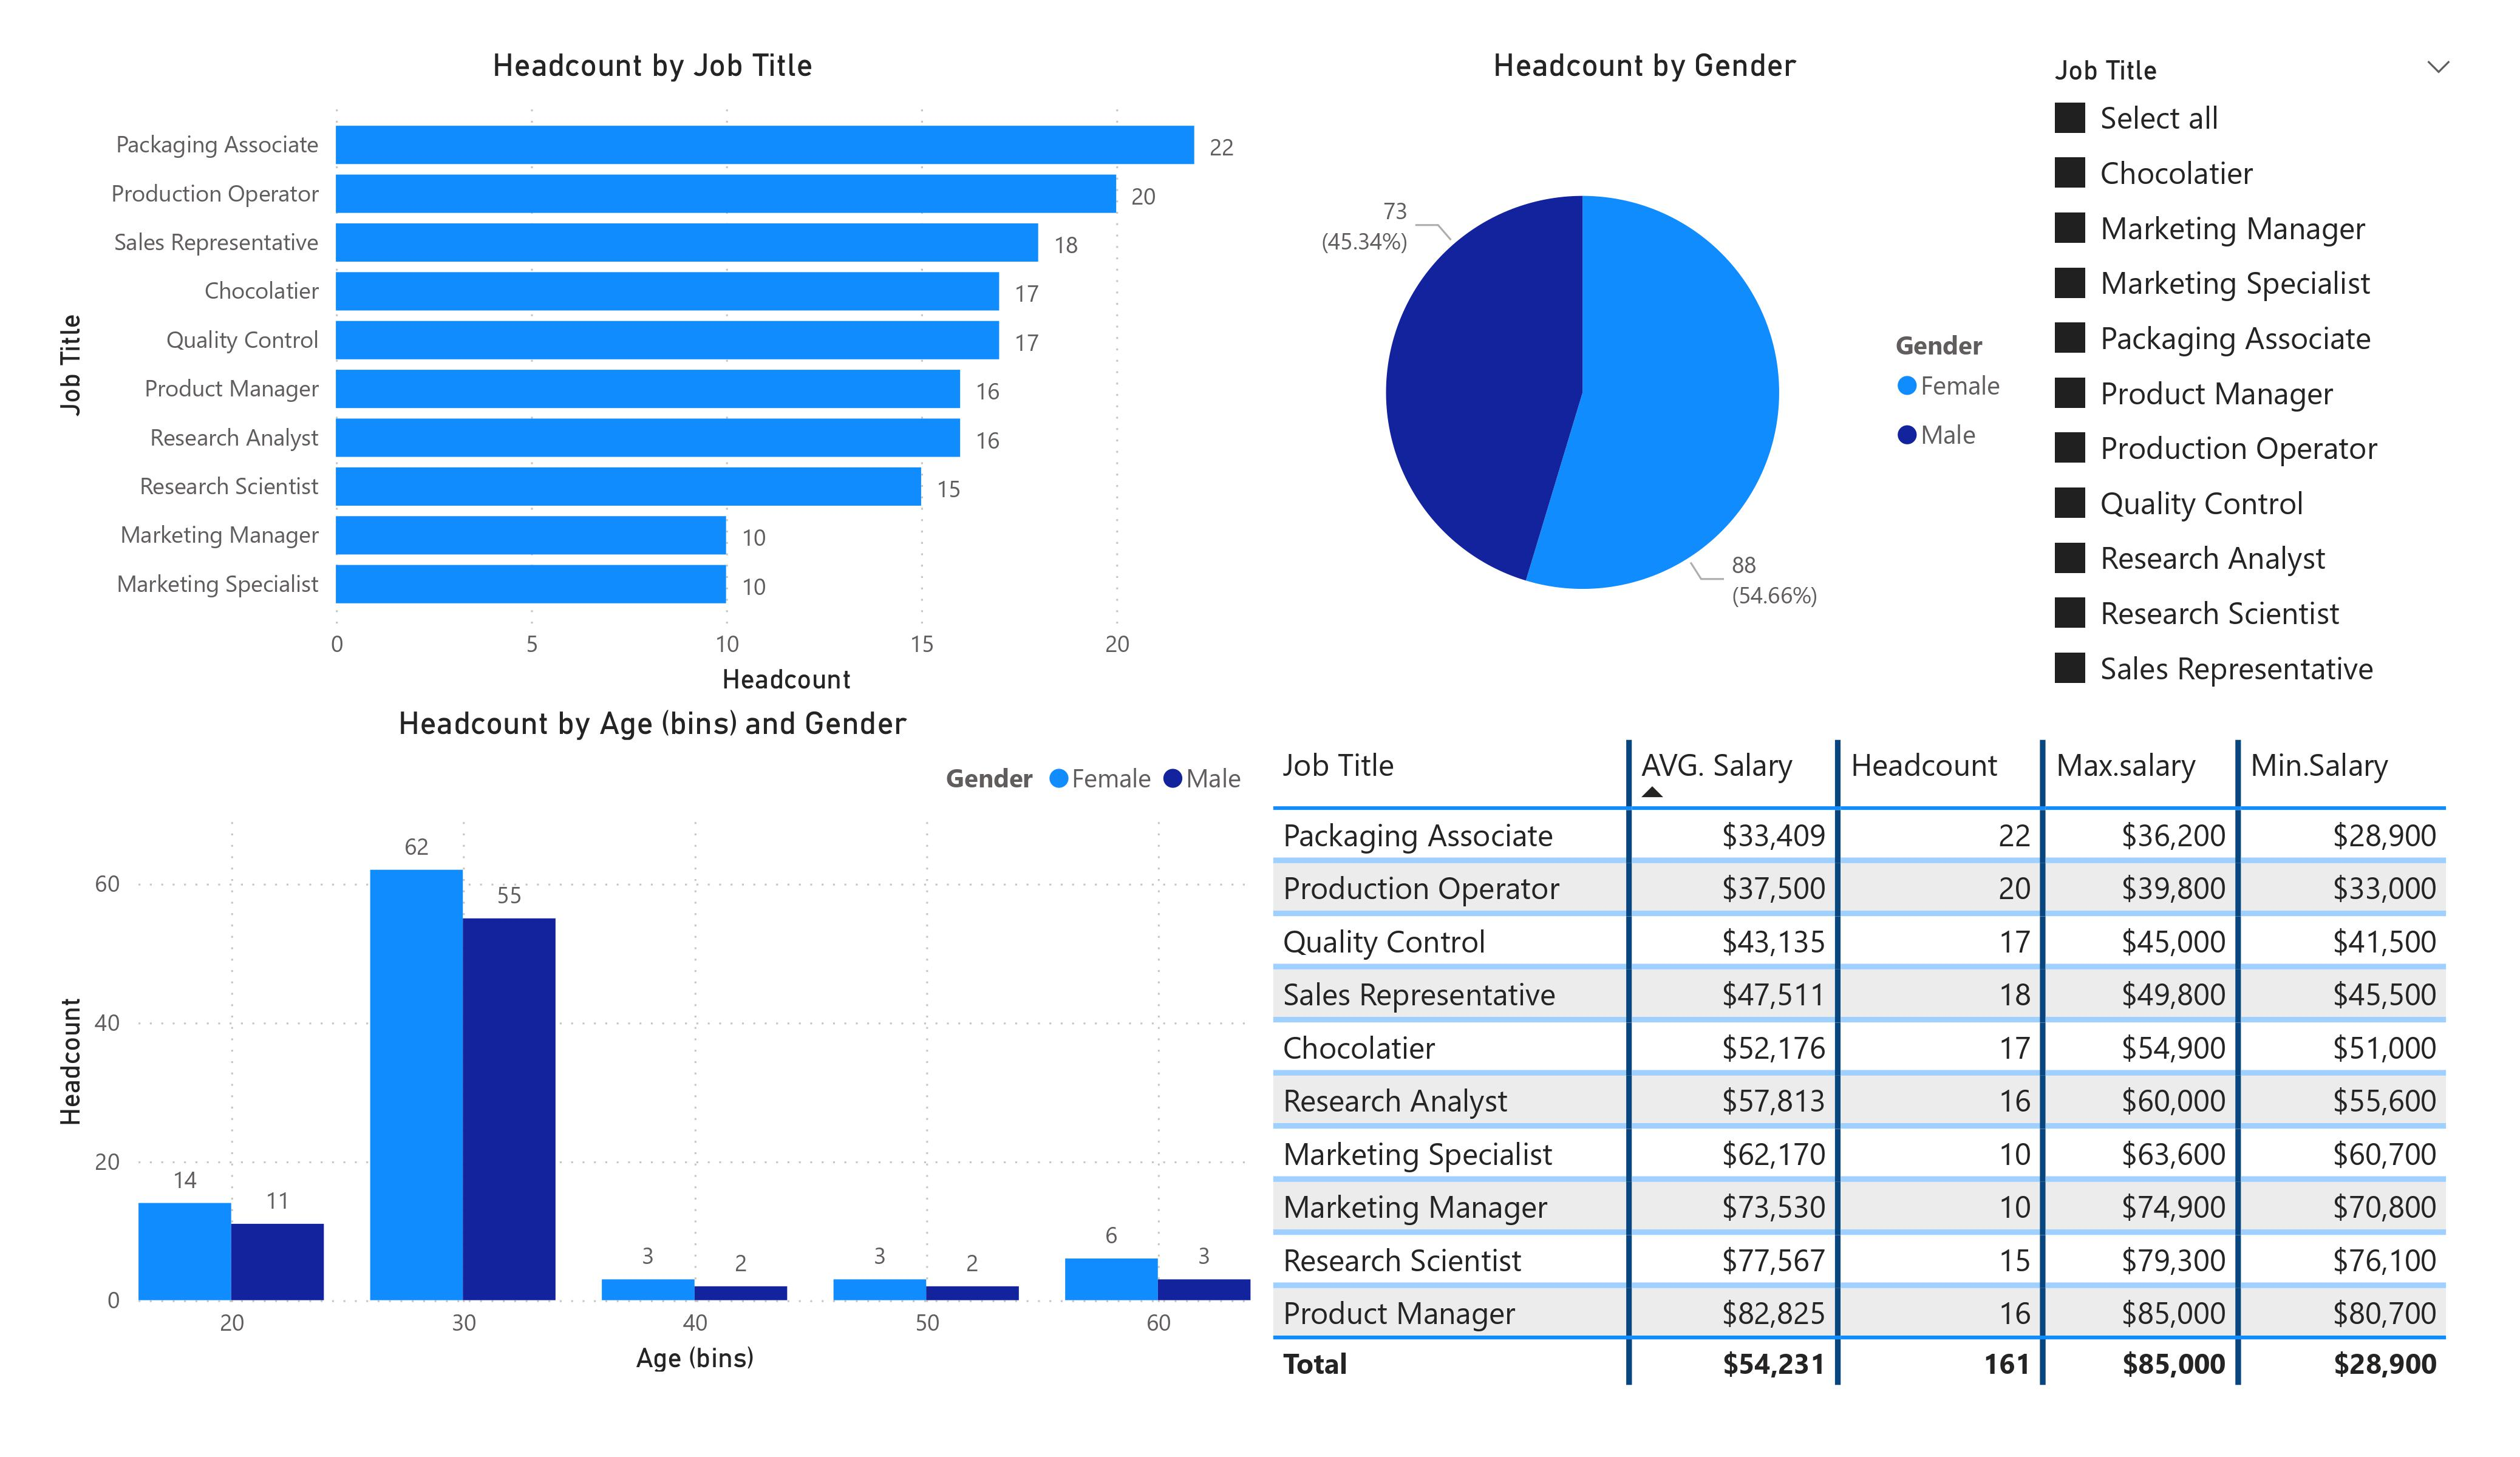

The page's visual inventory and layout, read from the dashboard file:
{"tool":"powerbi","page":{"name":"Page 1","canvas":[1280,720],"ordinal":1},"visuals":[{"type":"clusteredBarChart","fields":{"Y":["stuff.Headcount"],"Category":["stuff.Job Title"]},"box":[0,0,640,347.4],"z":0},{"type":"pieChart","fields":{"Category":["stuff.Gender"],"Y":["stuff.Headcount"]},"box":[640,0,405.9,347.4],"z":1000},{"type":"slicer","fields":{"Values":["stuff.Job Title"]},"box":[1045.9,0,234.1,347.4],"z":2000},{"type":"clusteredColumnChart","fields":{"Y":["stuff.Headcount"],"Category":["stuff.Age (bins)"],"Series":["stuff.Gender"]},"box":[0,347.4,640,356.8],"z":3000},{"type":"tableEx","fields":{"Values":["stuff.Job Title","stuff.AVG. Salary","stuff.Headcount","stuff.Max.salary","stuff.Min.Salary"]},"box":[640.7,360.8,639.1,359.2],"z":4000}]}

Visuals, with their boxes in screenshot pixels (x1, y1, x2, y2):
clusteredBarChart - stuff.Headcount x stuff.Job Title: BBox(46, 46, 1260, 705)
pieChart - stuff.Gender x stuff.Headcount: BBox(1260, 46, 2030, 705)
slicer - stuff.Job Title: BBox(2030, 46, 2474, 705)
clusteredColumnChart - stuff.Headcount x stuff.Age (bins): BBox(46, 705, 1260, 1382)
tableEx - stuff.Job Title x stuff.AVG. Salary: BBox(1261, 730, 2474, 1411)
